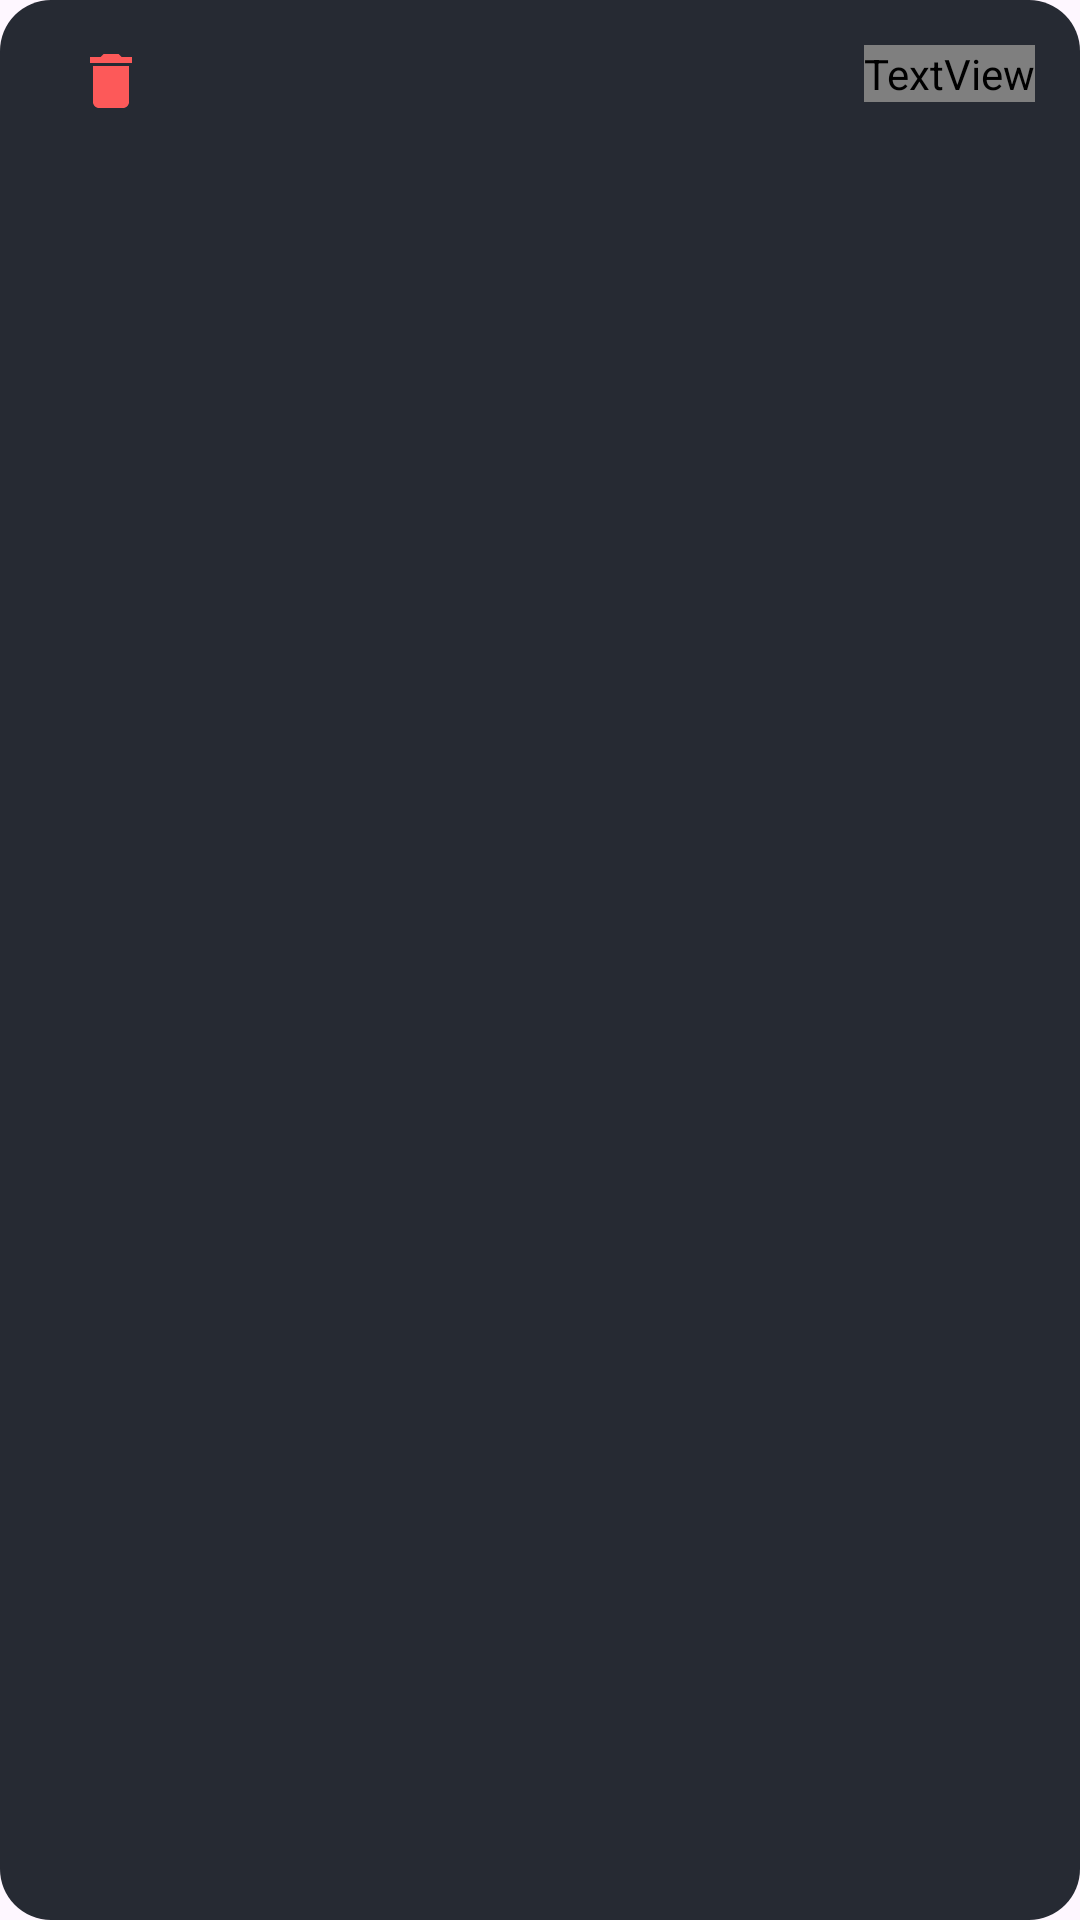

Named icons in this screenshot (1080x1920) and their bounding boxes, (x1, y1, x2, y2):
delete: (90, 54, 132, 108)
